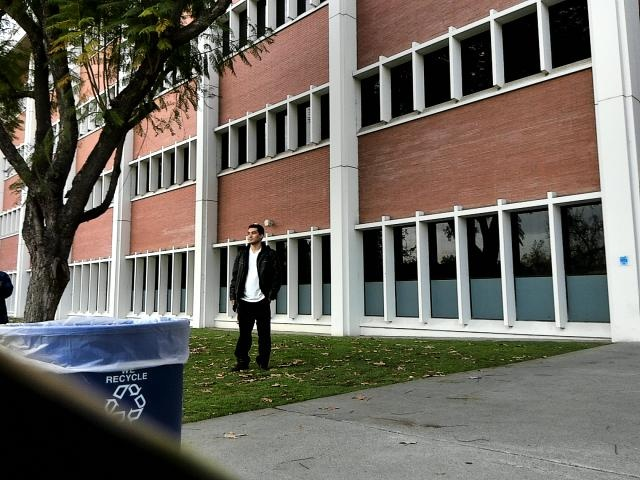trashcan_open: (1, 311, 199, 480)
